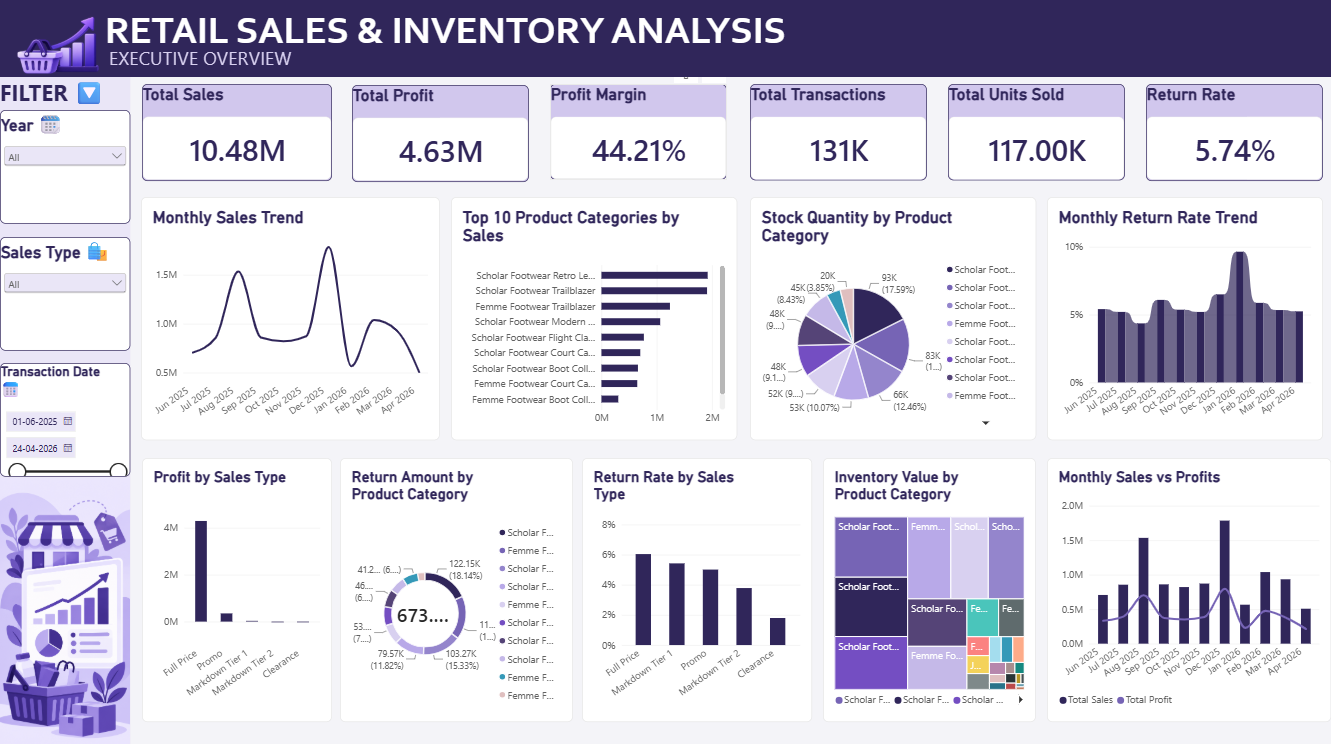

The dashboard page shown, as its layout file describes it:
{"tool":"powerbi","page":{"name":"Executive Overview","canvas":[1920,1080],"ordinal":0},"visuals":[{"type":"cardVisual","title":"Total Sales","fields":{"Data":["retail_sales_clean.Total Sales"]},"box":[204.8,122.6,274.1,139.9],"z":0},{"type":"cardVisual","title":"Total Profit","fields":{"Data":["retail_sales_clean.Total Profit"]},"box":[507.8,124.1,255,139.9],"z":1000},{"type":"cardVisual","title":"Profit Margin","fields":{"Data":["retail_sales_clean.Profit Margin %"]},"box":[793.4,122.6,255,138.5],"z":2000},{"type":"cardVisual","title":"Total Transactions","fields":{"Data":["retail_sales_clean.Total Transactions"]},"box":[1081.9,122.6,255,139],"z":3000},{"type":"cardVisual","title":"Total Units Sold","fields":{"Data":["retail_sales_clean.Total Units Sold"]},"box":[1367.5,122.6,255,139],"z":4000},{"type":"cardVisual","title":"Return Rate","fields":{"Data":["retail_sales_clean.Return Rate %"]},"box":[1653.1,122.6,255,139.9],"z":5000},{"type":"lineChart","title":"Monthly Sales Trend","fields":{"Y":["retail_sales_clean.Total Sales"],"Category":["DateTable.Month Year"]},"box":[203.4,285.6,431.3,350.5],"z":6000},{"type":"clusteredBarChart","title":"Top 10 Product Categories by Sales","fields":{"Category":["retail_sales_clean.Product_Category"],"Y":["retail_sales_clean.Total Sales"]},"box":[650.6,285.6,412.6,350.5],"z":7000},{"type":"clusteredColumnChart","title":"Profit by Sales Type","fields":{"Category":["retail_sales_clean.Sales_Type"],"Y":["retail_sales_clean.Total Profit"]},"box":[204.8,662.1,274.1,380.8],"z":8000},{"type":"clusteredColumnChart","title":"Return Rate by Sales Type","fields":{"Y":["retail_sales_clean.Return Rate %"],"Category":["retail_sales_clean.Sales_Type"]},"box":[839.5,662.1,331.8,380.8],"z":9000},{"type":"treemap","title":"Inventory Value by Product Category","fields":{"Group":["retail_inventory_clean.Product_Category"],"Values":["Sum(retail_inventory_clean.Inventory_Value)"]},"box":[1187.2,662.1,307.3,380.8],"z":10000},{"type":"pieChart","title":"Stock Quantity by Product Category","fields":{"Category":["retail_inventory_clean.Product_Category"],"Y":["Sum(retail_inventory_clean.Qty_on_hand)"]},"box":[1081.9,285.6,412.6,350.5],"z":11000},{"type":"donutChart","title":"Return Amount by Product Category","fields":{"Category":["retail_sales_clean.Product_Category"],"Y":["Sum(retail_sales_clean.Return_Amount)"]},"box":[490.5,662.1,336.1,380.8],"z":12000},{"type":"lineClusteredColumnComboChart","title":"Monthly Sales vs Profits","fields":{"Category":["DateTable.Month Year"],"Y":["retail_sales_clean.Total Sales"],"Y2":["retail_sales_clean.Total Profit"]},"box":[1510.3,662.1,409.7,380.8],"z":13000},{"type":"ribbonChart","title":"Monthly Return Rate Trend","fields":{"Category":["DateTable.Month Year"],"Y":["retail_sales_clean.Return Rate %"]},"box":[1510.3,285.6,398.1,350.5],"z":14000},{"type":"shape","box":[0,0,1920,112.5],"z":17000},{"type":"image","box":[0,0,161.6,132.7],"z":18000},{"type":"textbox","box":[139.9,10.1,1660.3,92.3],"z":19000},{"type":"textbox","box":[150,66.4,1650.2,46.2],"z":20000},{"type":"shape","box":[0,112.5,188,967.9],"z":21000},{"type":"textbox","box":[0,112.5,187.5,47.6],"z":22000},{"type":"slicer","title":"Year 🗓️","fields":{"Values":["DateTable.Year"]},"box":[0,160.1,187.5,164.4],"z":22001},{"type":"slicer","title":"Sales Type 🛍️","fields":{"Values":["retail_sales_clean.Sales_Type"]},"box":[0,343.3,187.5,164.4],"z":22002},{"type":"slicer","title":"Transaction Date 📅","fields":{"Values":["DateTable.Date"]},"box":[0,525.1,187.5,164.4],"z":22003},{"type":"image","box":[0,689.5,187.5,390.9],"z":22004}]}

Visuals, with their boxes in screenshot pixels (x1, y1, x2, y2), scaled from the page's 1920x1080 canvas onto the 1331x744 screenshot:
"Total Sales" cardVisual: detection(142, 84, 332, 181)
"Total Profit" cardVisual: detection(352, 85, 529, 182)
"Profit Margin" cardVisual: detection(550, 84, 727, 180)
"Total Transactions" cardVisual: detection(750, 84, 927, 180)
"Total Units Sold" cardVisual: detection(948, 84, 1125, 180)
"Return Rate" cardVisual: detection(1146, 84, 1323, 181)
"Monthly Sales Trend" lineChart: detection(141, 197, 440, 438)
"Top 10 Product Categories by Sales" clusteredBarChart: detection(451, 197, 737, 438)
"Profit by Sales Type" clusteredColumnChart: detection(142, 456, 332, 718)
"Return Rate by Sales Type" clusteredColumnChart: detection(582, 456, 812, 718)
"Inventory Value by Product Category" treemap: detection(823, 456, 1036, 718)
"Stock Quantity by Product Category" pieChart: detection(750, 197, 1036, 438)
"Return Amount by Product Category" donutChart: detection(340, 456, 573, 718)
"Monthly Sales vs Profits" lineClusteredColumnComboChart: detection(1047, 456, 1330, 718)
"Monthly Return Rate Trend" ribbonChart: detection(1047, 197, 1323, 438)
shape: detection(0, 0, 1330, 78)
image: detection(0, 0, 112, 91)
textbox: detection(97, 7, 1248, 71)
textbox: detection(104, 46, 1248, 78)
shape: detection(0, 78, 130, 743)
textbox: detection(0, 78, 130, 110)
"Year 🗓️" slicer: detection(0, 110, 130, 224)
"Sales Type 🛍️" slicer: detection(0, 236, 130, 350)
"Transaction Date 📅" slicer: detection(0, 362, 130, 475)
image: detection(0, 475, 130, 743)
